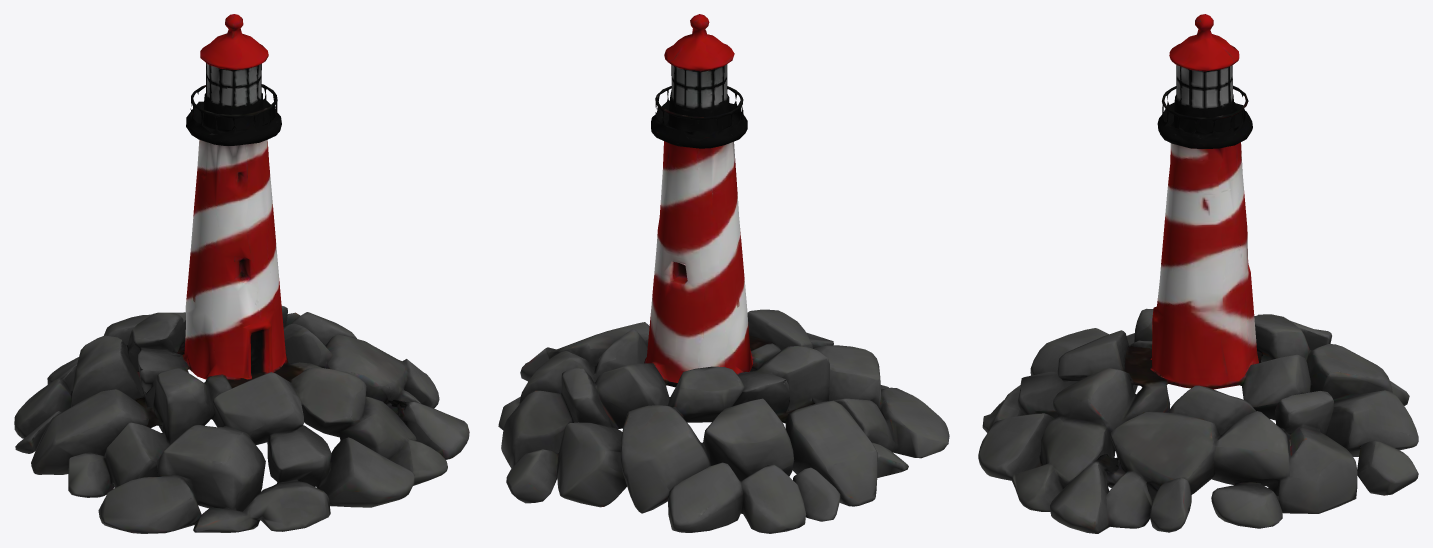
File: lighthouse.glb
3 renders of one model, left to right at view 1: azimuth 30°, elevation 25°; view 2: azimuth 150°, elevation 25°; view 3: azimuth 270°, elevation 25°, orthographic.
Bounding box in the file's own units: 0.9159 × 0.9933 × 0.9128.
1 material, 1 textured.
